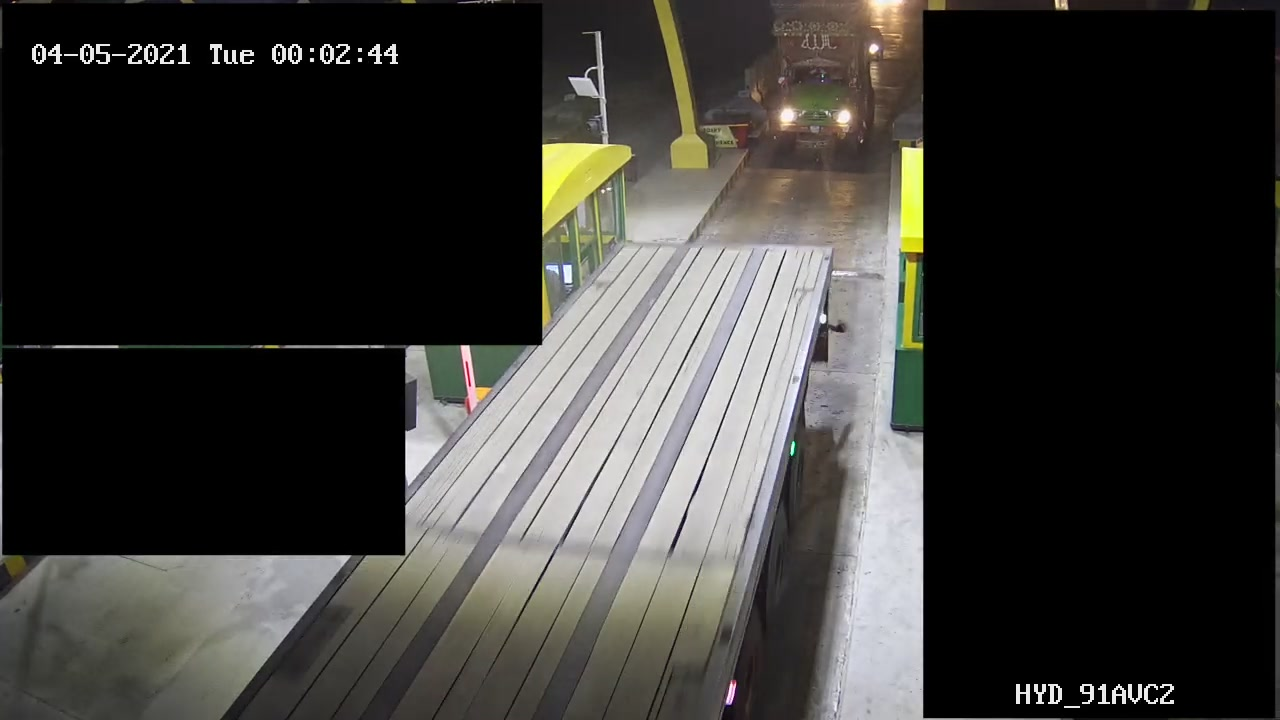F5: (768, 1, 873, 171)
